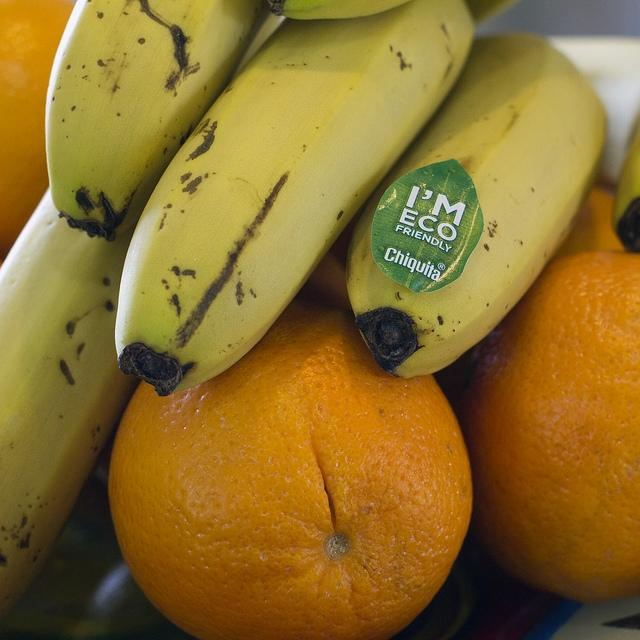banana: (115, 1, 475, 397), (346, 32, 607, 378), (0, 188, 140, 638), (45, 0, 272, 242), (611, 110, 640, 254), (304, 249, 354, 313), (266, 0, 412, 20)
orange: (107, 297, 474, 638), (458, 248, 640, 606), (1, 1, 76, 267), (294, 201, 368, 318), (548, 180, 624, 262)
